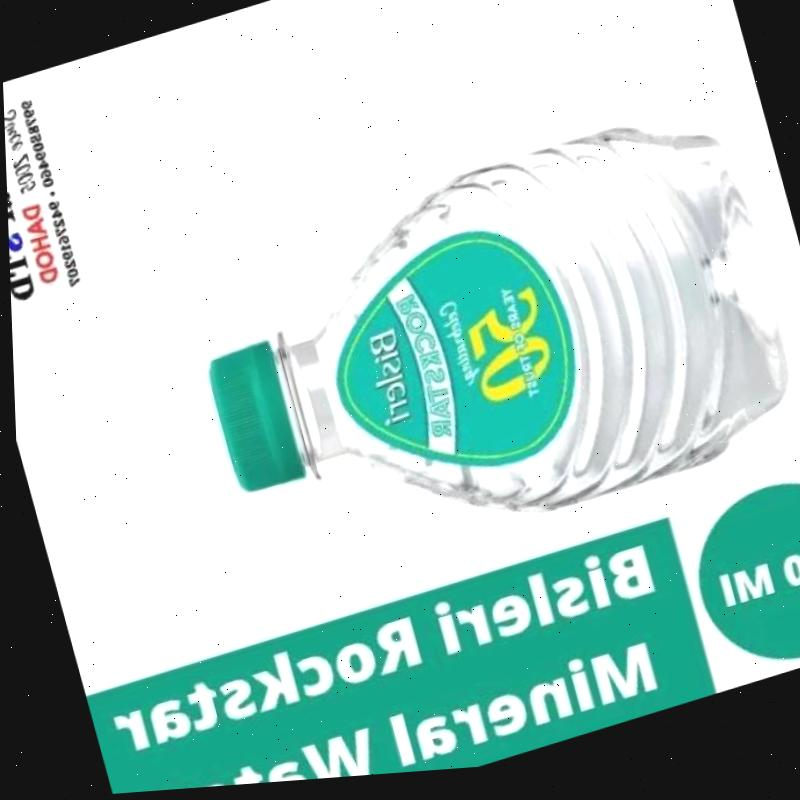botella: (166, 97, 800, 611)
